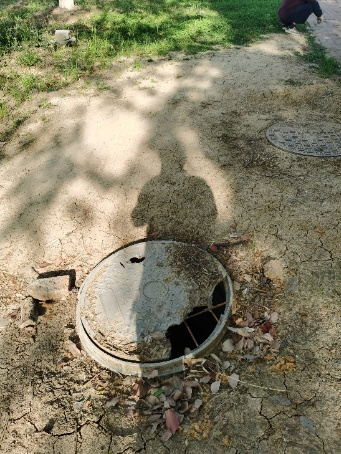well: (75, 238, 234, 372), (263, 118, 341, 157)
